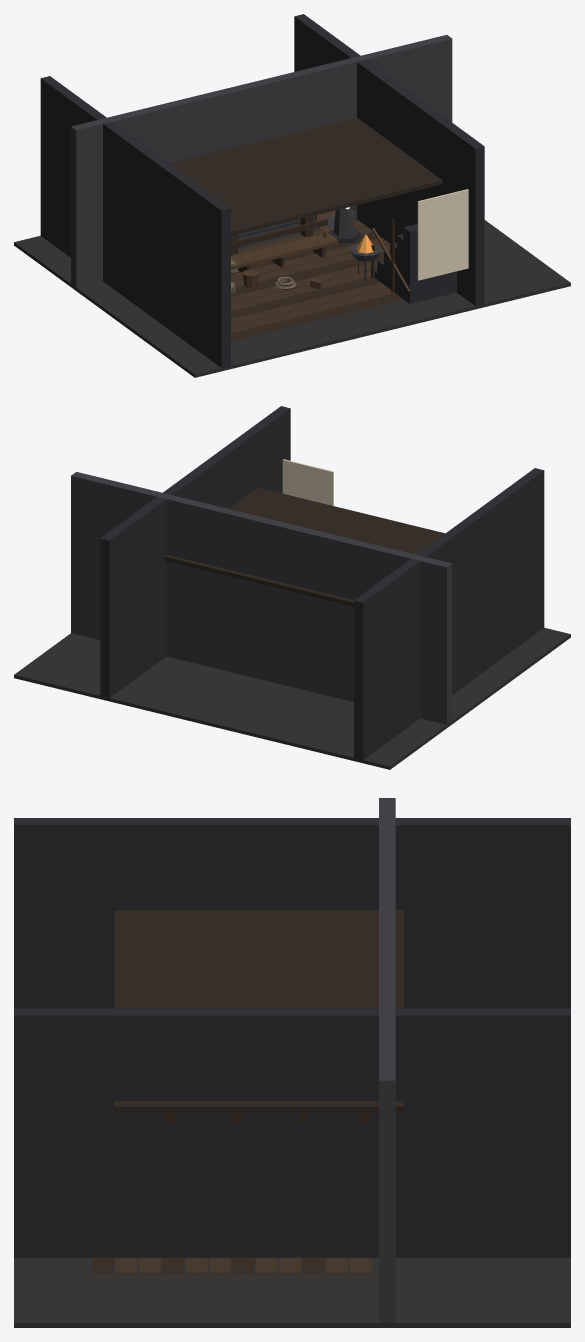
File: PR_RestRoom.fbx
3 renders of one model, top to bottom at view 1: azimuth 30°, elevation 25°; view 2: azimuth 150°, elevation 25°; view 3: azimuth 270°, elevation 25°, orthographic. The views are drawn at different scales.
Parts seen in each view (by area): view 1: LeftWall, BackWall, Roof, Floor, RightWall, ArenaLight, Step.005, Bench, Plank, Plank.001, Plank.002, Plank.003 (+9 smaller); view 2: BackWall, LeftWall, Floor, RightWall, Roof, ArenaLight; view 3: RightWall, LeftWall, Floor, Roof, BackWall.
Boxes of the visible parts, <box> form: LeftWall: <box>40,76,230,367</box>; BackWall: <box>71,35,452,287</box>; Roof: <box>169,117,442,235</box>; Floor: <box>14,219,570,377</box>; RightWall: <box>294,14,484,305</box>; ArenaLight: <box>417,189,468,280</box>; Step.005: <box>403,224,456,303</box>; Bench: <box>231,233,338,269</box>; Plank: <box>231,293,402,340</box>; Plank.001: <box>231,288,395,333</box>; Plank.002: <box>231,282,387,325</box>; Plank.003: <box>231,277,379,318</box>; BackWall: <box>71,472,452,724</box>; LeftWall: <box>354,468,544,759</box>; Floor: <box>14,627,570,769</box>; RightWall: <box>100,406,290,697</box>; Roof: <box>164,487,444,606</box>; ArenaLight: <box>282,459,333,505</box>; RightWall: <box>14,1008,570,1257</box>; LeftWall: <box>14,818,570,1008</box>; Floor: <box>14,1258,570,1327</box>; Roof: <box>114,910,403,1112</box>; BackWall: <box>379,798,395,1322</box>.
Size of the model in its own units: 12 by 4.9 by 10.
